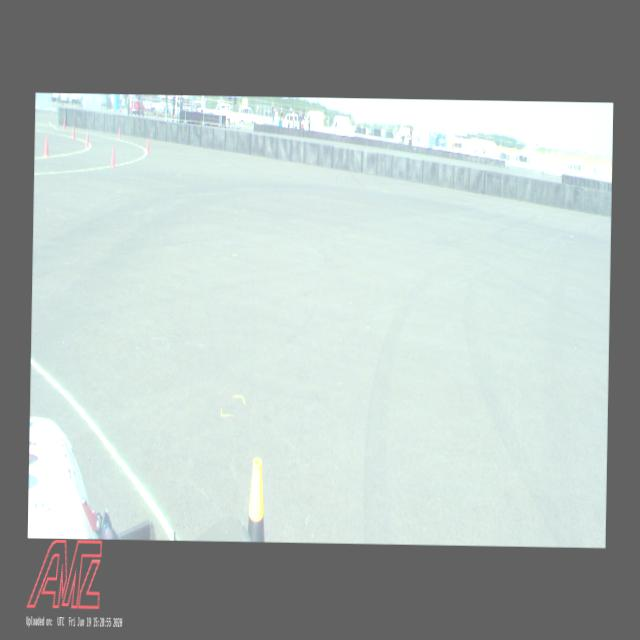unknown_cone: (42, 134, 49, 157), (110, 146, 116, 168), (145, 136, 150, 154), (72, 124, 76, 138), (85, 131, 88, 148), (62, 118, 66, 130), (117, 126, 120, 140)
yellow_cone: (248, 457, 266, 541)
